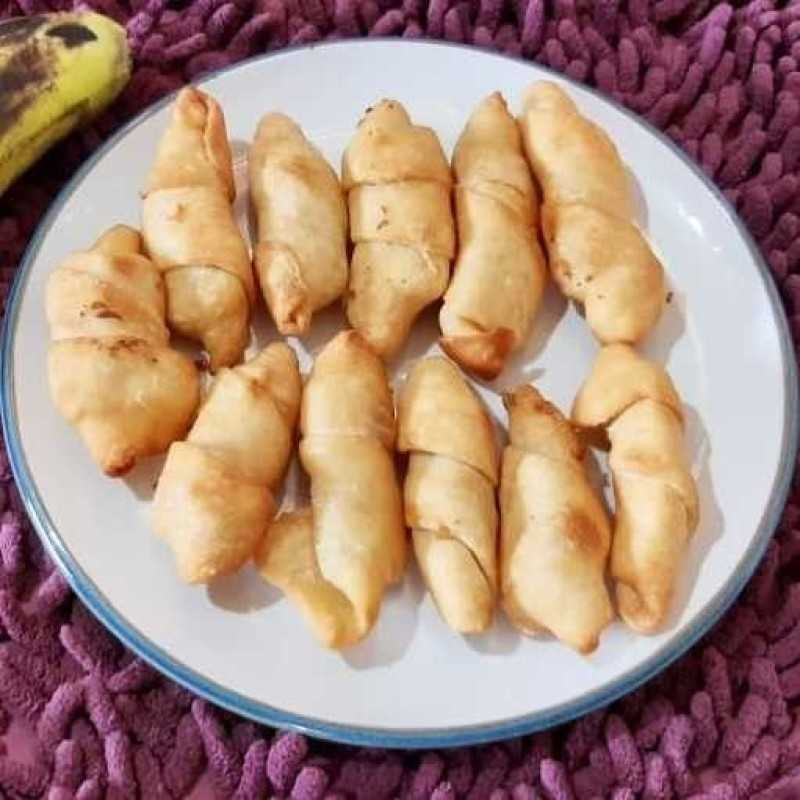pisang_molen: (267, 333, 428, 649), (520, 73, 678, 351), (147, 340, 304, 587), (43, 224, 200, 468), (571, 347, 701, 636), (137, 87, 256, 365), (437, 88, 550, 379), (498, 380, 614, 658), (396, 347, 499, 652), (338, 96, 454, 359), (244, 111, 348, 333)
